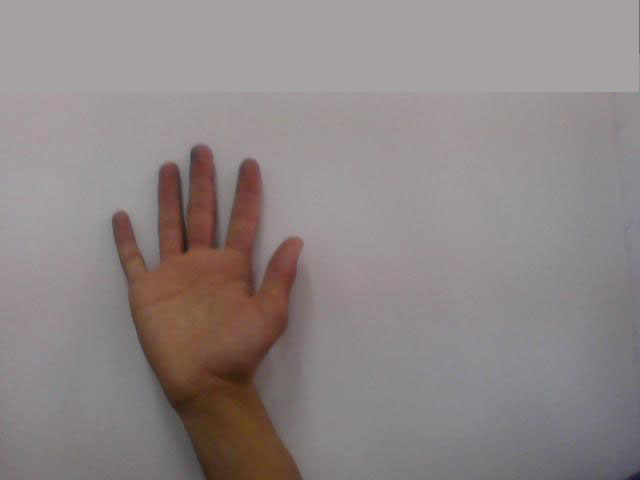hand: (105, 133, 310, 382)
